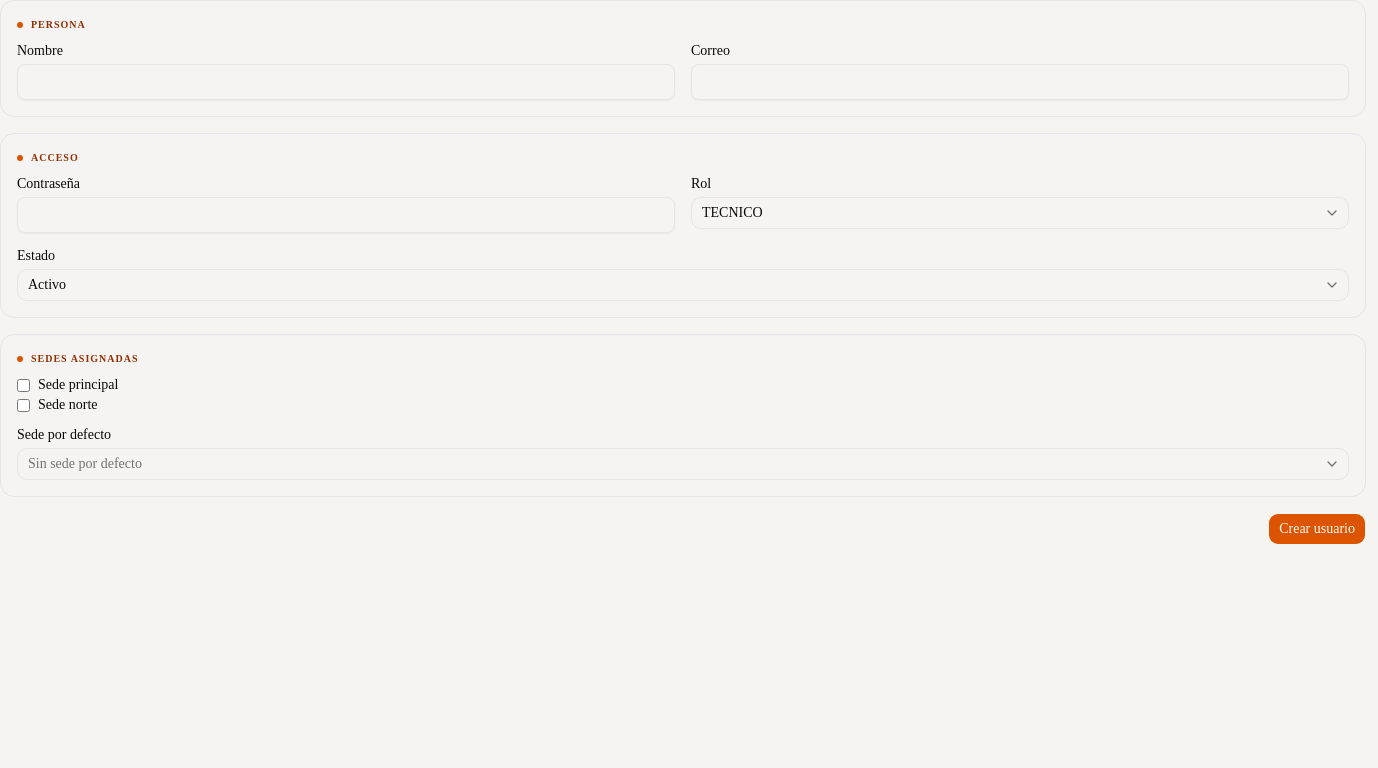
Test: NuevoUsuarioForm › hides the sede checkboxes when the role is ADMIN
Step 1. Click the dropdown named "rol" → (732, 212), box [691,197,1349,229]
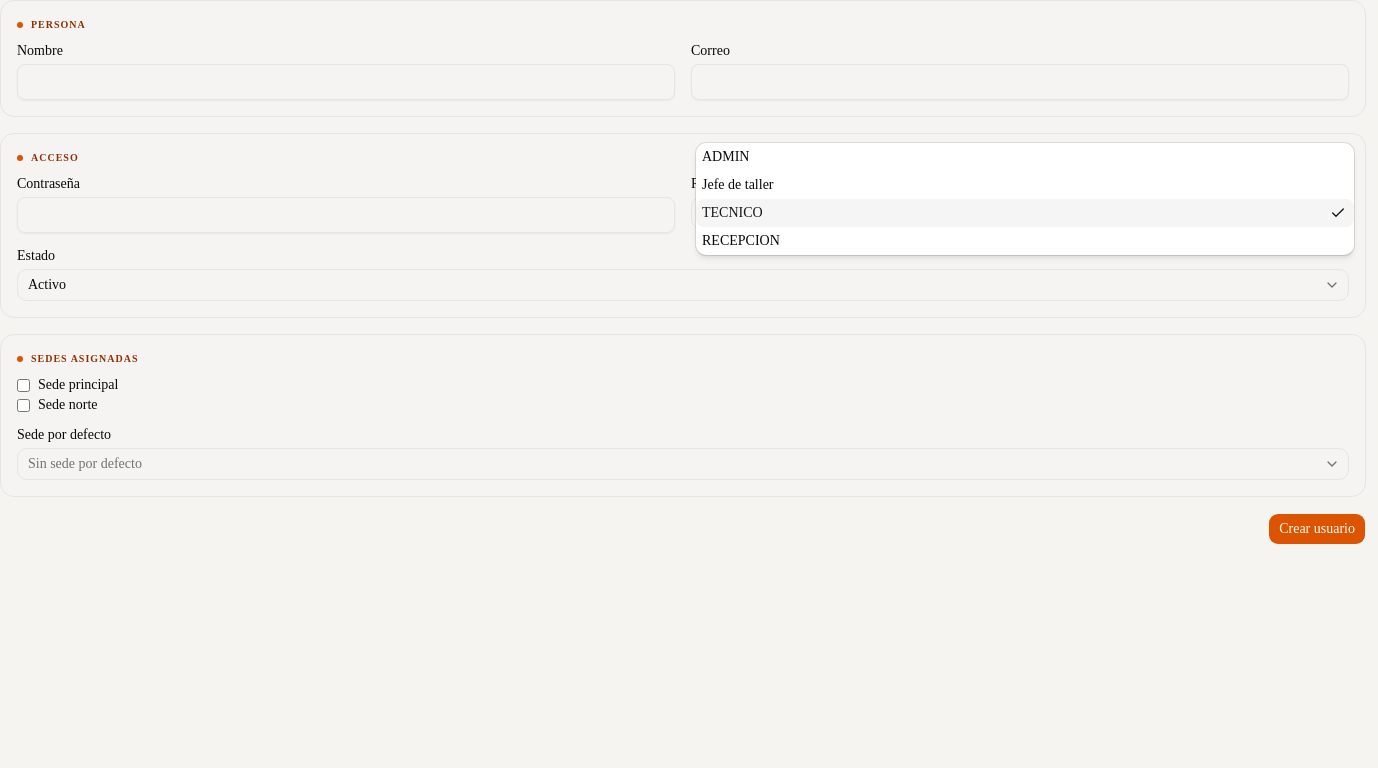
Step 2. Click the option "ADMIN" → (726, 156), box [702,149,750,164]
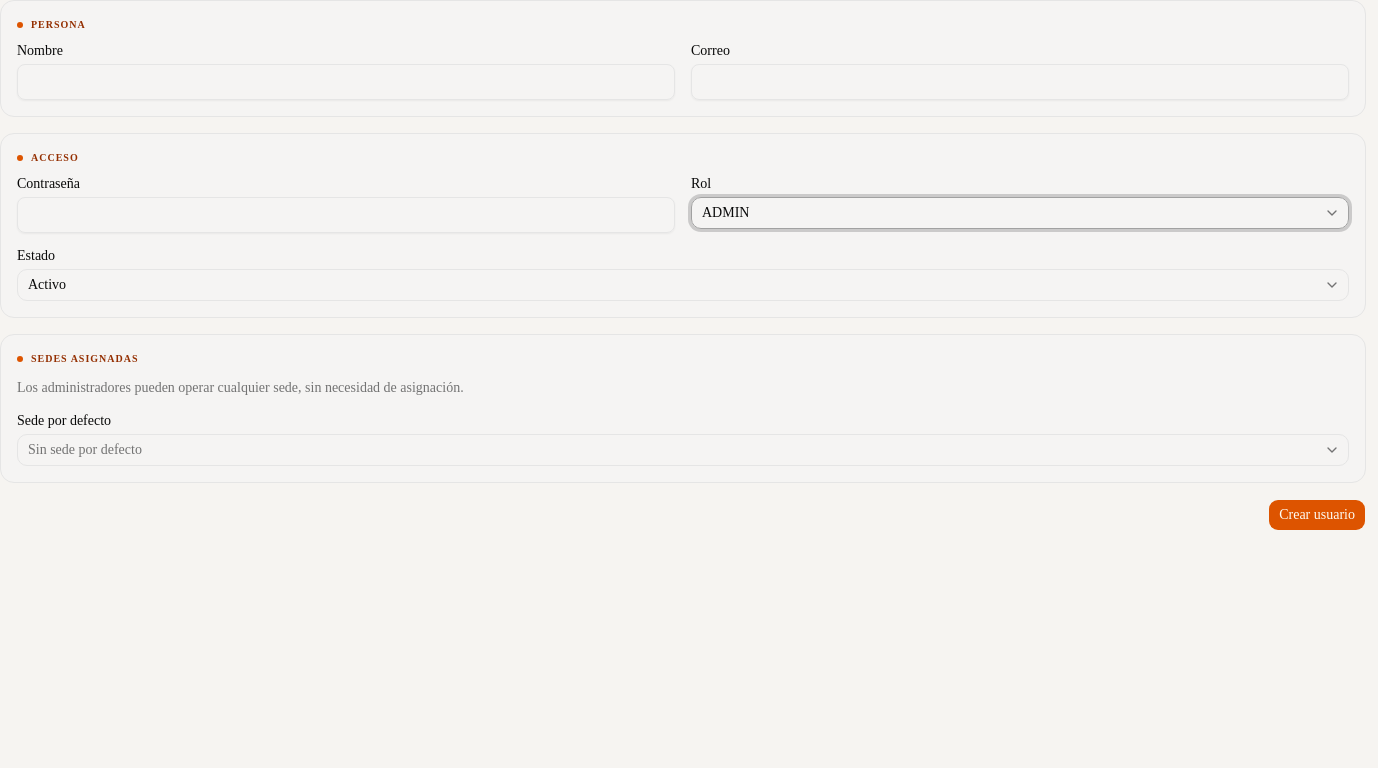
Result: the label labelled "Sede principal" is gone
Result: the label labelled "Sede norte" is gone
